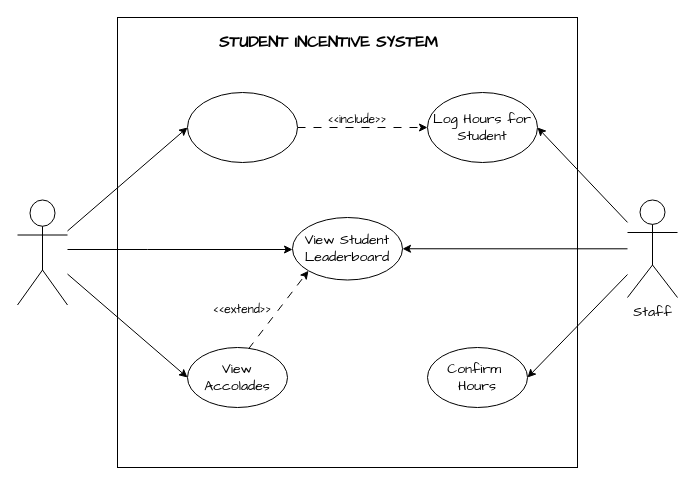
The diagram is 695 pixels wide and 485 high, and some of its shapes have lost their labels. The box of each missing label's shape, as (x1, y1, x2, y2) in pixels:
Request Confirmations of Hours: (186, 92, 298, 162)
Student: (16, 199, 68, 305)
